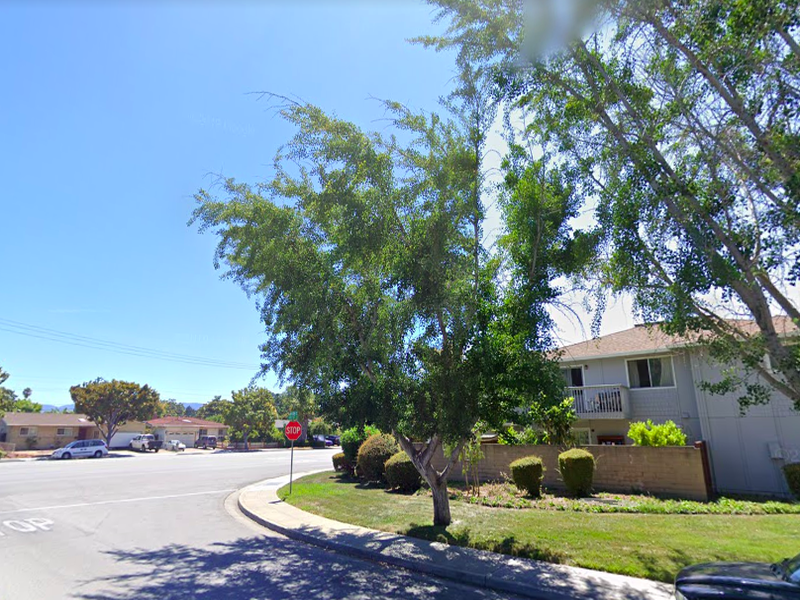tree: (188, 89, 585, 530)
